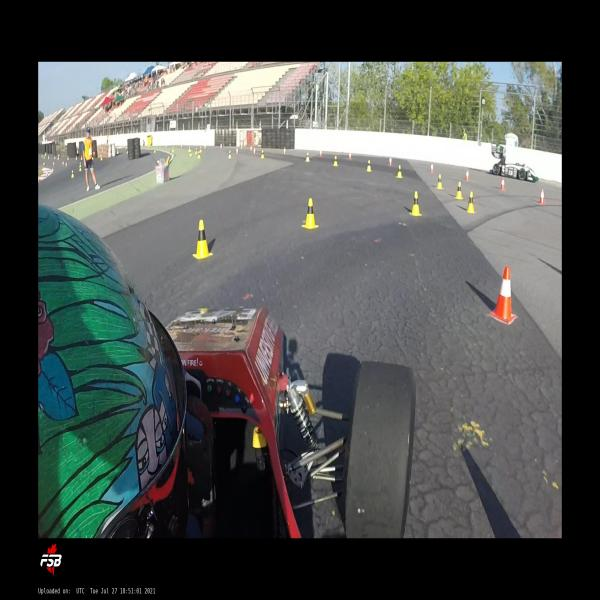orange_cone: (490, 267, 516, 322), (539, 189, 545, 204), (464, 169, 470, 182), (500, 178, 505, 190), (388, 157, 392, 166), (430, 164, 433, 173), (319, 150, 322, 157), (253, 148, 256, 154), (349, 152, 351, 160), (284, 148, 286, 156), (236, 148, 238, 154)
yellow_cone: (193, 220, 212, 260), (302, 199, 318, 230), (410, 192, 421, 216), (467, 192, 476, 212), (454, 182, 463, 199), (436, 174, 443, 189), (395, 165, 403, 178), (332, 155, 338, 167), (366, 160, 371, 172), (305, 152, 310, 162), (260, 150, 264, 158), (228, 150, 231, 158), (71, 170, 74, 178), (79, 165, 82, 171), (198, 150, 200, 158), (79, 162, 82, 167), (189, 150, 191, 157), (195, 148, 197, 154), (200, 146, 202, 152), (188, 146, 190, 152)
